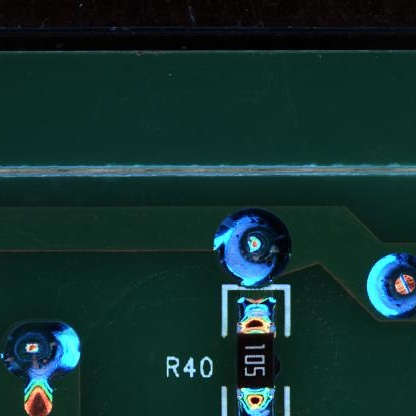spot: (213, 209, 292, 284), (4, 319, 83, 380), (364, 251, 416, 319)
